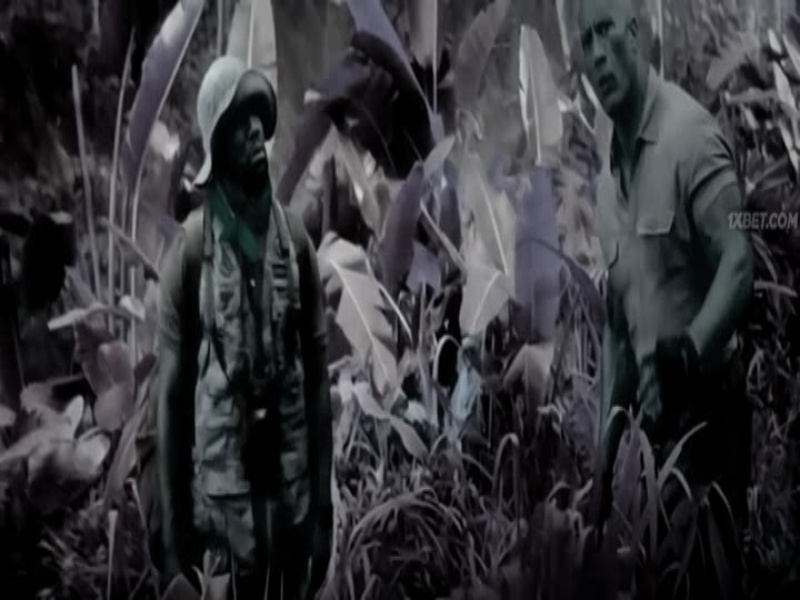TsisyArotava: (186, 64, 292, 199), (562, 1, 664, 124)
